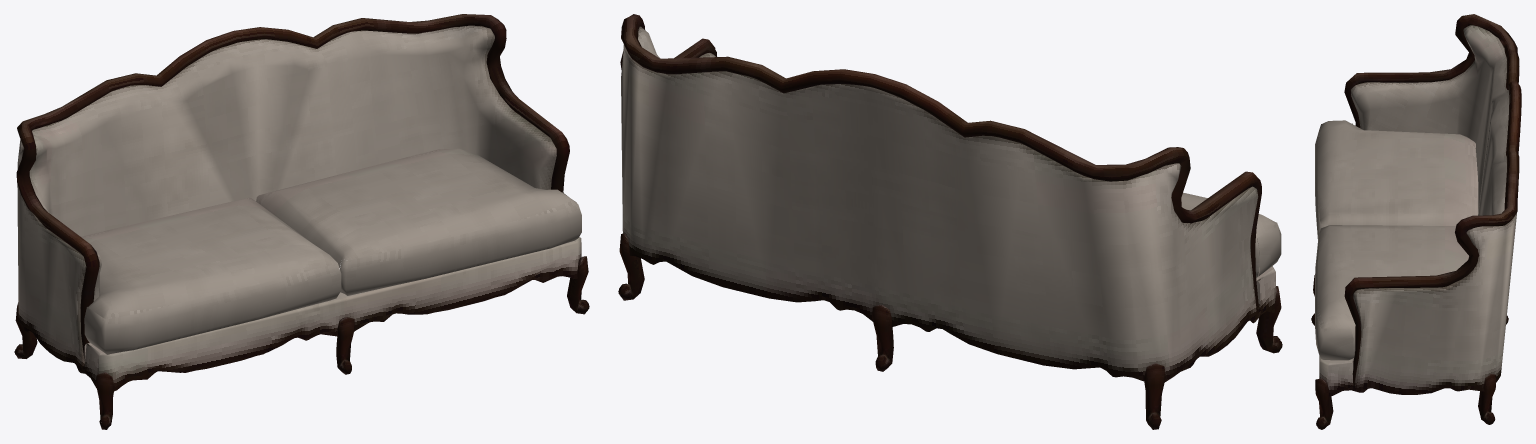
The model's file is Sofa_01.glb.
3 views of the same model, side by side, from view 1: azimuth 30°, elevation 25°; view 2: azimuth 150°, elevation 25°; view 3: azimuth 270°, elevation 25° (orthographic). The views are drawn at different scales.
Parts seen in each view (by area): view 1: Sofa_01; view 2: Sofa_01; view 3: Sofa_01.
Part boxes in pixels (x1=…): Sofa_01: x1=14, y1=14, x2=589, y2=429; Sofa_01: x1=618, y1=14, x2=1282, y2=429; Sofa_01: x1=1311, y1=14, x2=1521, y2=429.
Size of the model in its own units: 1.57 by 0.7967 by 0.6597.
1 material, 1 textured.
